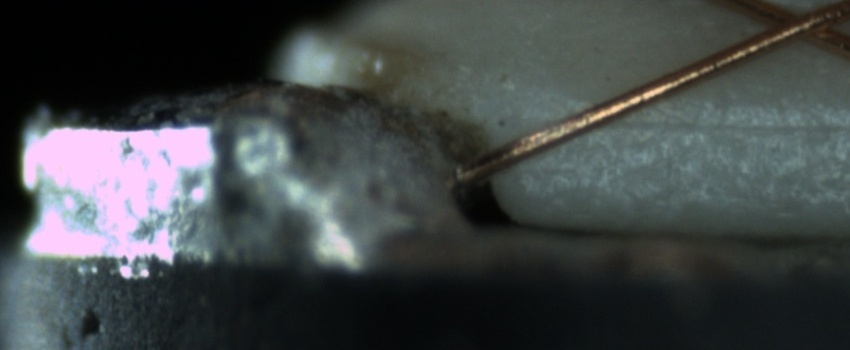CL: (742, 1, 844, 54)
DL: (553, 93, 848, 155)
